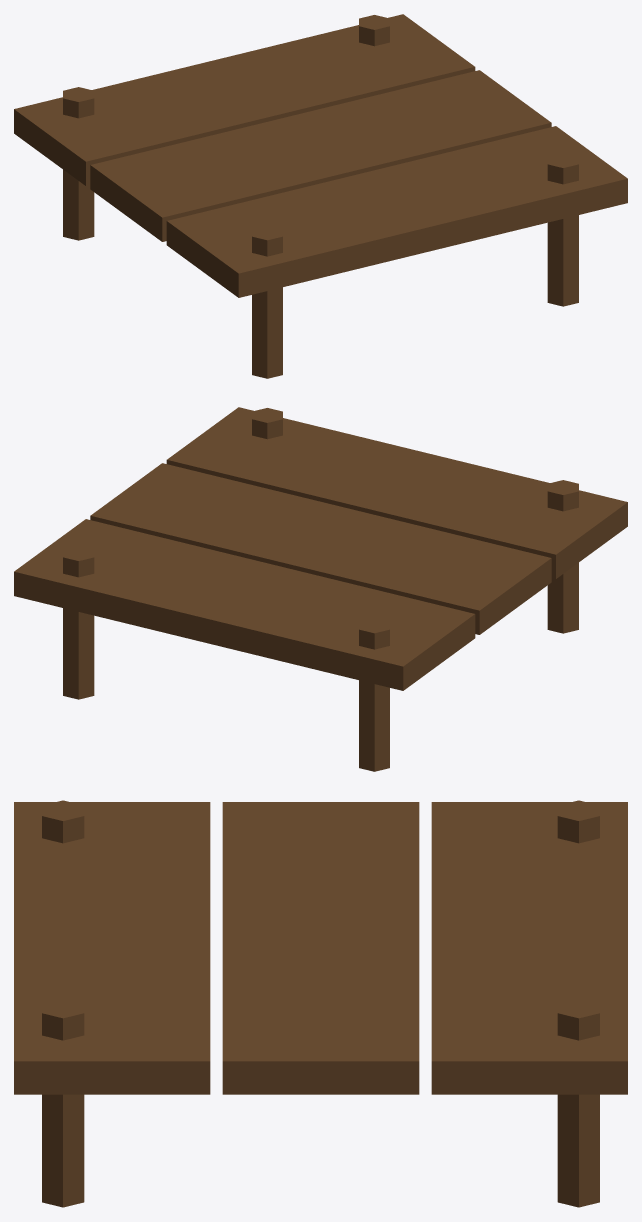
The model's file is jetty.glb.
3 views of the same model, one above another, from view 1: azimuth 30°, elevation 25°; view 2: azimuth 150°, elevation 25°; view 3: azimuth 270°, elevation 25° (orthographic). The views are drawn at different scales.
Visible parts, largest first — view 1: jetty; view 2: jetty; view 3: jetty.
Part boxes in pixels (x1,y1,x2,y2): jetty: (14,14,627,378); jetty: (14,407,627,771); jetty: (14,800,627,1207).
Bounding box in the file's own units: 1 × 0.34 × 1.
